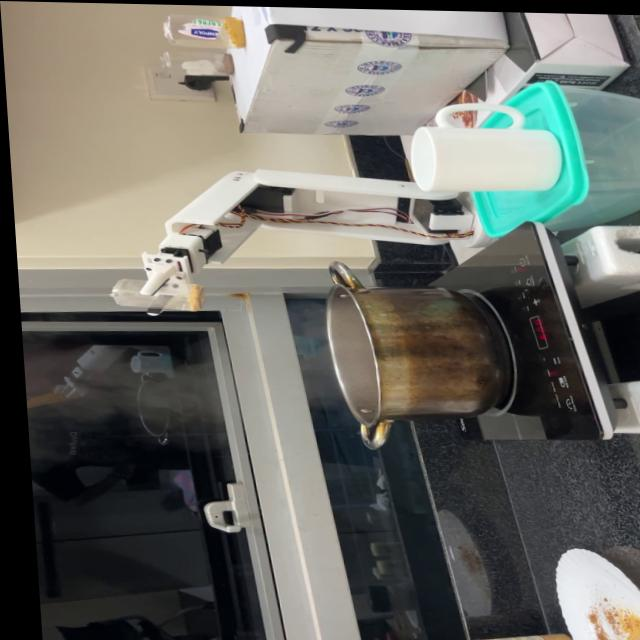cooking_pot: (314, 258, 503, 449)
curry_powder: (222, 15, 243, 47)
garlic_powder: (180, 278, 206, 313)
maggie_open: (216, 51, 235, 75)
